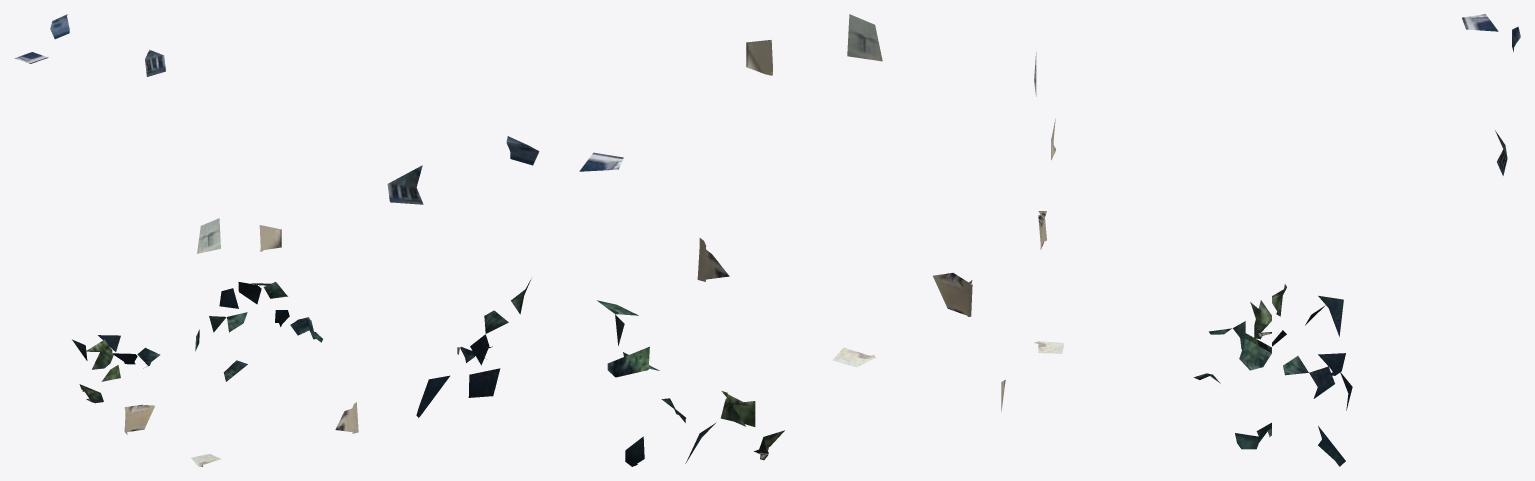
3 views of the same model, side by side, from view 1: azimuth 30°, elevation 25°; view 2: azimuth 150°, elevation 25°; view 3: azimuth 270°, elevation 25° (orthographic). The views are drawn at different scales.
Visible parts, largest first — view 1: 30436272704370606425_1; view 2: 30436272704370606425_1; view 3: 30436272704370606425_1.
Part boxes in pixels (bbox=[...]): 30436272704370606425_1: bbox=[14, 14, 358, 466]; 30436272704370606425_1: bbox=[387, 14, 972, 466]; 30436272704370606425_1: bbox=[1001, 14, 1520, 466].
Size of the model in its own units: 27.31 by 27.58 by 36.71.
1 material, 1 textured.
